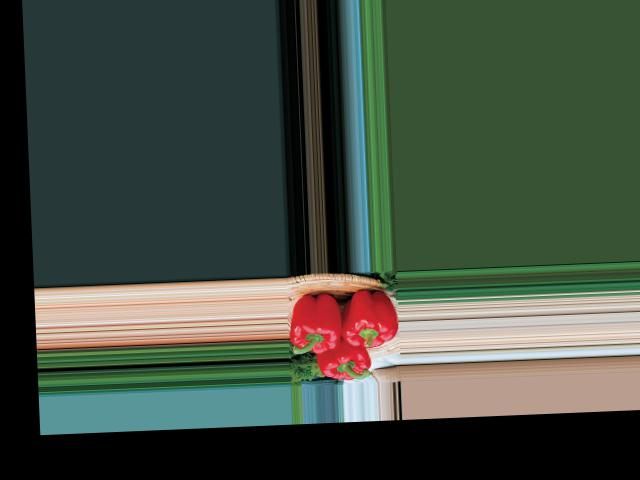bell_pepper: (288, 285, 350, 355)
